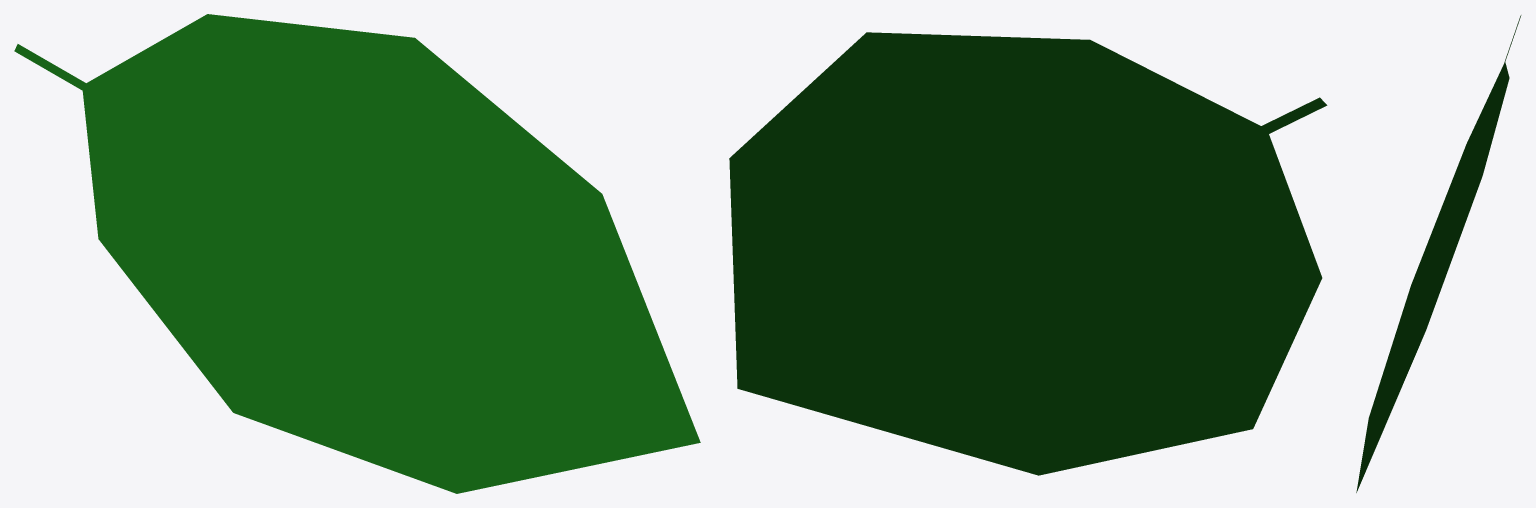
The model's file is Leaves.119.obj.
The picture shows the model from 3 angles, left to right: view 1: azimuth 30°, elevation 25°; view 2: azimuth 150°, elevation 25°; view 3: azimuth 270°, elevation 25°; orthographic projection. The views are drawn at different scales.
Parts seen in each view (by area): view 1: Leaves.119_leaves.119; view 2: Leaves.119_leaves.119; view 3: Leaves.119_leaves.119.
Part boxes in pixels (x1,y1,x2,y2): Leaves.119_leaves.119: (14,14,700,493); Leaves.119_leaves.119: (729,32,1327,475); Leaves.119_leaves.119: (1356,15,1521,492).
Size of the model in its own units: 0.1152 by 0.087 by 0.0438.
